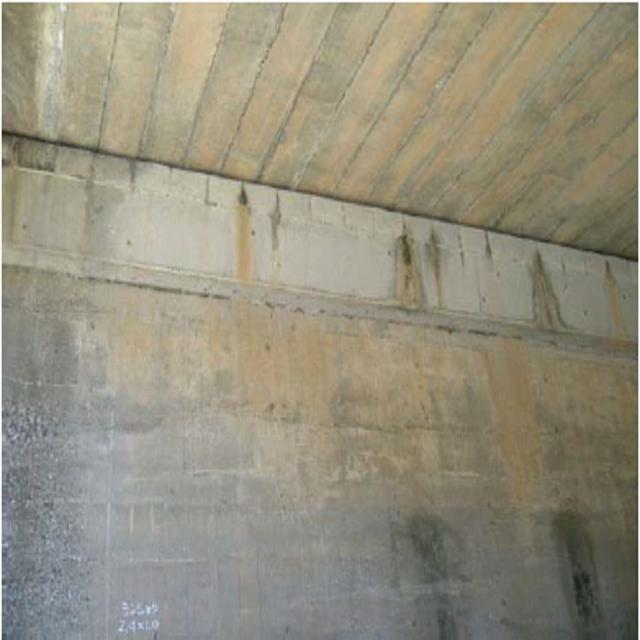leakage: (521, 237, 576, 342), (390, 218, 450, 312), (224, 173, 259, 287)
